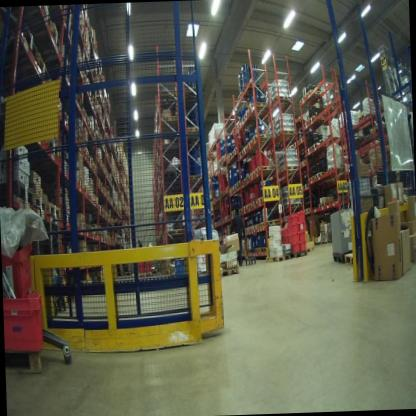pallet: (0, 56, 56, 105), (0, 21, 45, 73), (7, 344, 53, 377), (0, 174, 34, 215), (5, 8, 54, 30), (342, 248, 370, 279), (28, 18, 59, 46), (77, 104, 98, 141), (220, 263, 243, 289), (250, 128, 276, 150), (44, 134, 61, 165), (158, 160, 180, 183), (53, 103, 73, 128), (298, 86, 322, 106), (158, 86, 180, 107), (55, 150, 71, 177), (32, 188, 48, 214), (186, 169, 204, 192), (70, 170, 86, 195), (56, 209, 76, 229), (157, 113, 180, 130), (163, 228, 186, 245), (179, 123, 200, 140), (274, 127, 296, 143), (247, 100, 269, 116), (242, 109, 269, 122), (45, 202, 61, 223), (281, 200, 303, 215), (308, 111, 326, 129), (242, 79, 261, 96), (180, 84, 197, 103), (328, 161, 347, 177), (314, 100, 337, 113), (264, 254, 293, 264), (237, 89, 256, 104), (69, 90, 84, 108), (279, 163, 303, 174), (242, 116, 266, 127), (294, 247, 312, 261), (249, 170, 273, 180), (259, 218, 281, 228), (295, 158, 313, 170), (255, 164, 276, 174), (312, 140, 328, 153), (272, 93, 292, 103), (329, 250, 343, 264), (302, 206, 317, 218), (135, 271, 154, 280), (314, 169, 327, 181), (358, 112, 372, 123), (82, 181, 91, 197), (316, 201, 334, 209), (79, 217, 88, 232), (86, 220, 94, 236), (304, 146, 313, 160), (75, 134, 84, 148), (124, 268, 136, 278), (256, 197, 268, 207), (83, 145, 90, 160), (298, 135, 306, 148), (88, 155, 96, 168), (244, 173, 252, 185), (152, 269, 161, 279), (232, 183, 241, 193), (292, 136, 298, 151), (308, 172, 314, 186), (287, 143, 294, 155), (234, 121, 241, 133), (325, 237, 335, 245), (93, 191, 99, 204), (308, 245, 315, 256), (233, 146, 240, 156), (302, 118, 309, 128), (224, 152, 232, 160), (94, 160, 98, 176), (246, 202, 252, 212), (302, 182, 308, 192), (247, 138, 252, 150), (361, 134, 371, 140), (261, 245, 268, 253), (238, 149, 243, 160), (242, 143, 247, 154), (229, 150, 234, 161), (254, 222, 260, 231), (240, 227, 246, 236), (225, 213, 231, 222), (244, 225, 249, 235), (243, 204, 248, 214), (255, 247, 262, 254), (321, 237, 327, 245), (251, 223, 256, 232), (238, 206, 243, 215), (214, 220, 219, 229), (252, 199, 257, 207), (218, 234, 223, 242), (223, 232, 228, 240), (232, 181, 237, 189), (227, 185, 232, 193), (228, 189, 233, 197), (219, 153, 224, 161), (216, 162, 221, 170), (222, 216, 226, 225), (226, 157, 230, 166), (250, 248, 255, 255), (231, 209, 238, 214), (236, 179, 241, 186), (241, 176, 245, 184), (223, 153, 227, 161), (221, 156, 224, 166), (248, 226, 252, 233), (226, 232, 233, 236), (231, 212, 236, 217), (242, 249, 246, 255), (219, 218, 222, 226), (217, 158, 220, 164), (246, 250, 250, 254)
small_load_carrier: (5, 292, 48, 363), (1, 229, 36, 303), (287, 221, 300, 248), (284, 209, 299, 225), (279, 225, 293, 238), (281, 233, 293, 246), (299, 207, 308, 224), (290, 240, 299, 256), (298, 220, 310, 232), (300, 240, 309, 255), (299, 232, 309, 241)
